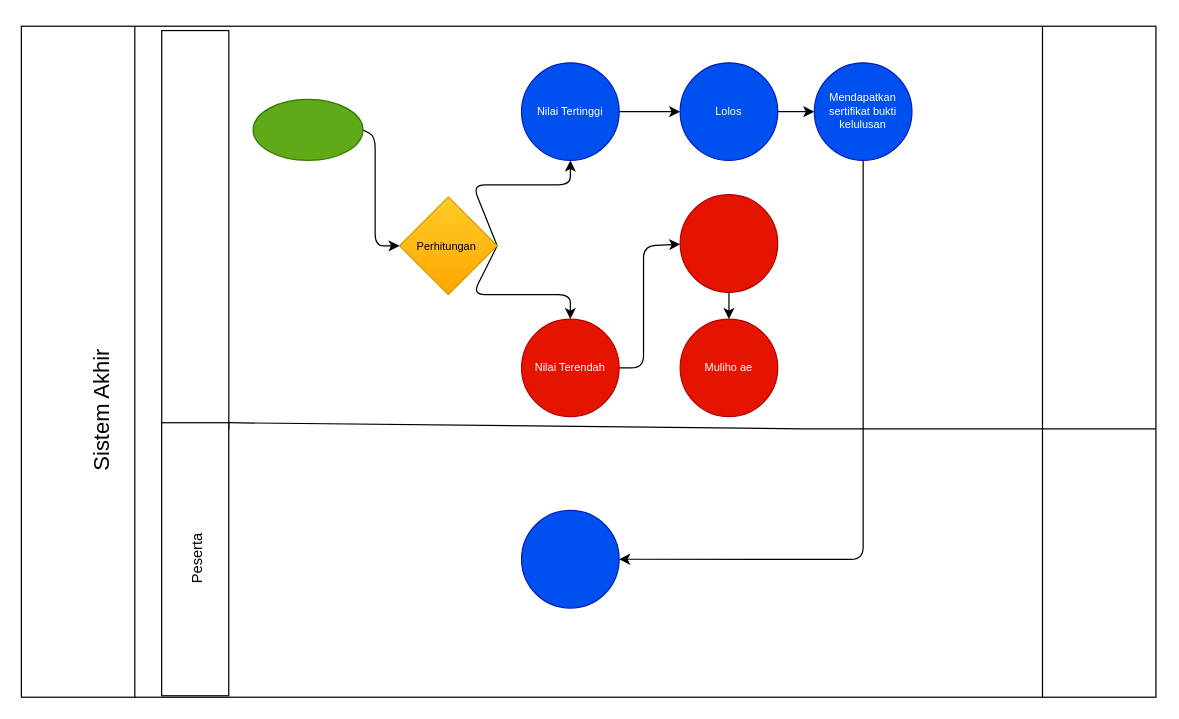
The diagram is 1179 pixels wide and 719 high, and some of its shapes have lost their labels. Each missing label, with the centre of its shape:
Dapat mencetak bukti kelulusan: the point at 569,558
Selesai Pengerjaan Soal: the point at 307,129
Tidak lolos: the point at 728,242
Web App: the point at 195,229
